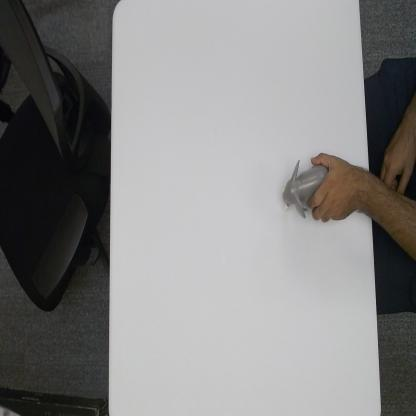Arm: (357, 162, 372, 225)
Elephant: (280, 156, 328, 222)
Hand: (307, 151, 358, 222)
